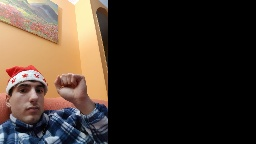Pugno: (51, 71, 89, 101)
